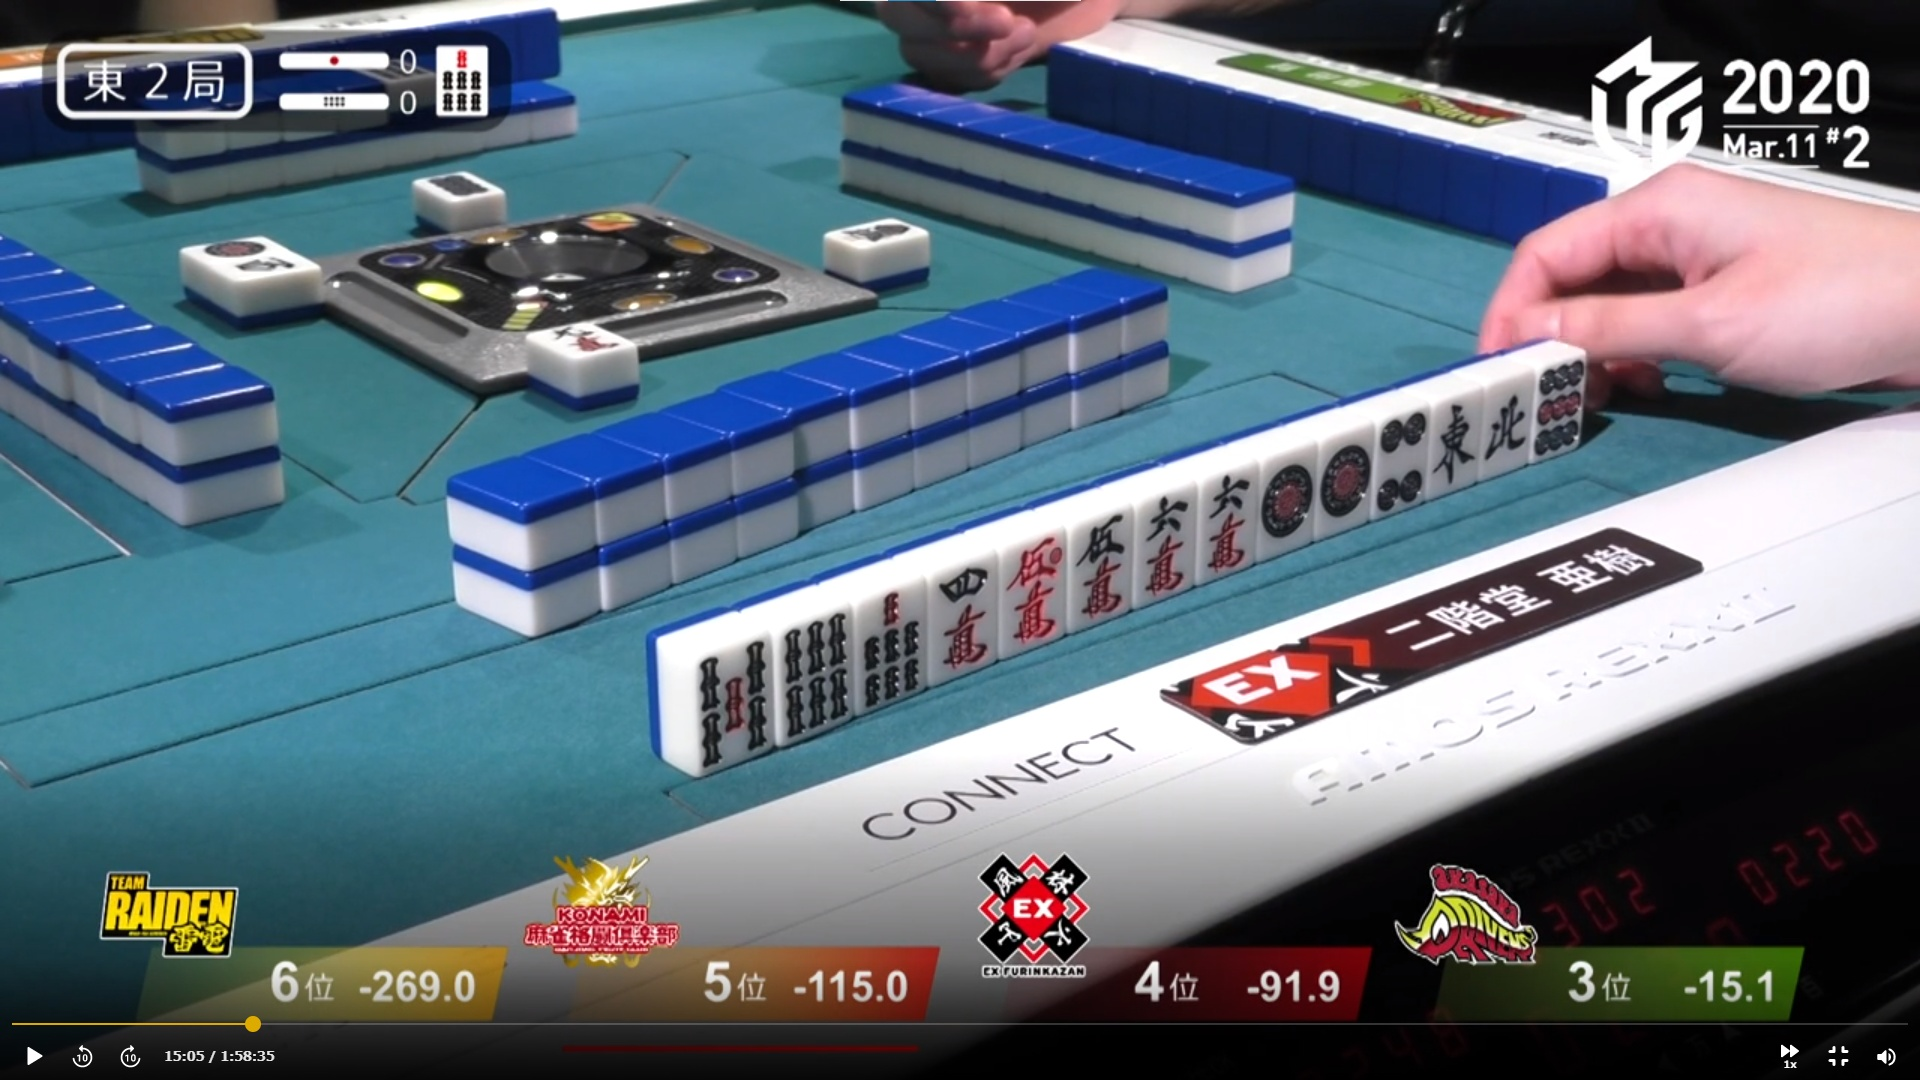1p: (1251, 429, 1313, 556), (1311, 411, 1367, 538)
4m: (924, 541, 992, 674)
4p: (1371, 388, 1424, 516)
5m: (1062, 488, 1125, 629)
5mr: (996, 509, 1062, 650)
5s: (679, 618, 766, 762)
6m: (1188, 450, 1251, 584), (1127, 465, 1187, 605)
6s: (771, 587, 848, 733)
7s: (853, 564, 924, 711)
9p: (1534, 338, 1582, 458)
hand_ton_2: (49, 38, 265, 121)
pei: (1476, 357, 1528, 475)
round_0: (266, 82, 425, 119)
team_exfurinkazan: (1154, 624, 1411, 746)
ton: (1422, 378, 1474, 498)
